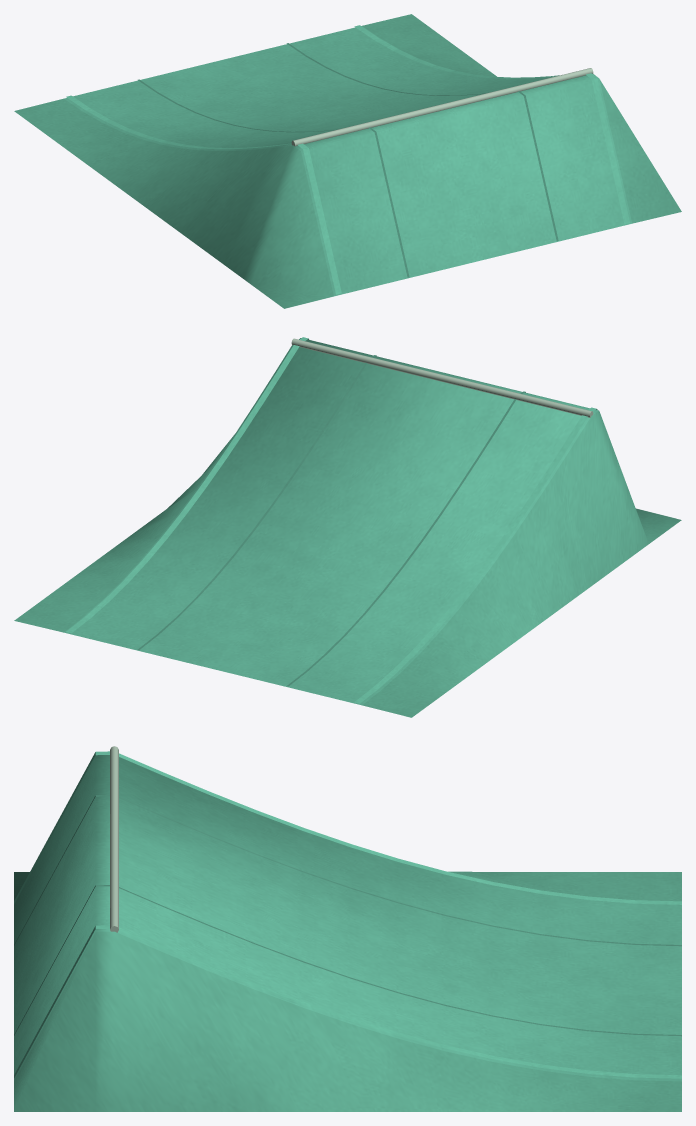
File: kicker.glb
The picture shows the model from 3 angles, top to bottom: view 1: azimuth 30°, elevation 25°; view 2: azimuth 150°, elevation 25°; view 3: azimuth 270°, elevation 25°; orthographic projection. The views are drawn at different scales.
Parts seen in each view (by area): view 1: kicker; view 2: kicker; view 3: kicker.
Boxes of the visible parts, x1,y1,x2,y2 form: kicker: [14, 14, 681, 308]; kicker: [14, 337, 681, 717]; kicker: [14, 746, 681, 1111].
Size of the model in its own units: 4.8 by 1.46 by 5.65.
Materials: 2 (1 with a texture image).
